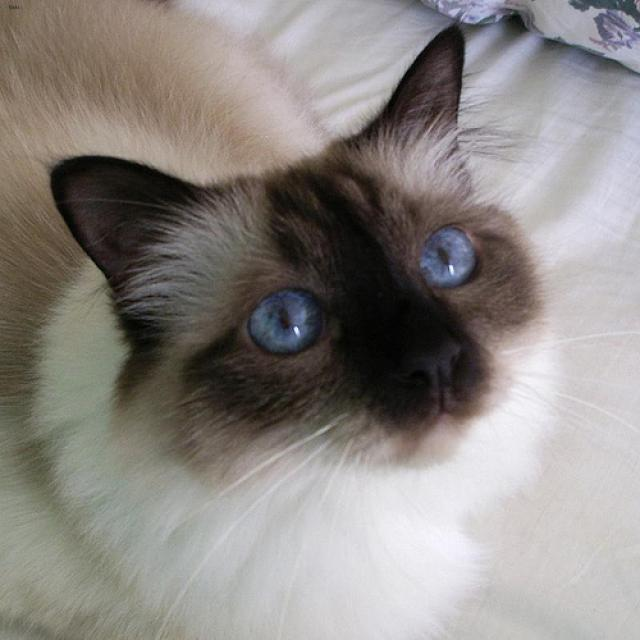Birman: (31, 9, 549, 539)
